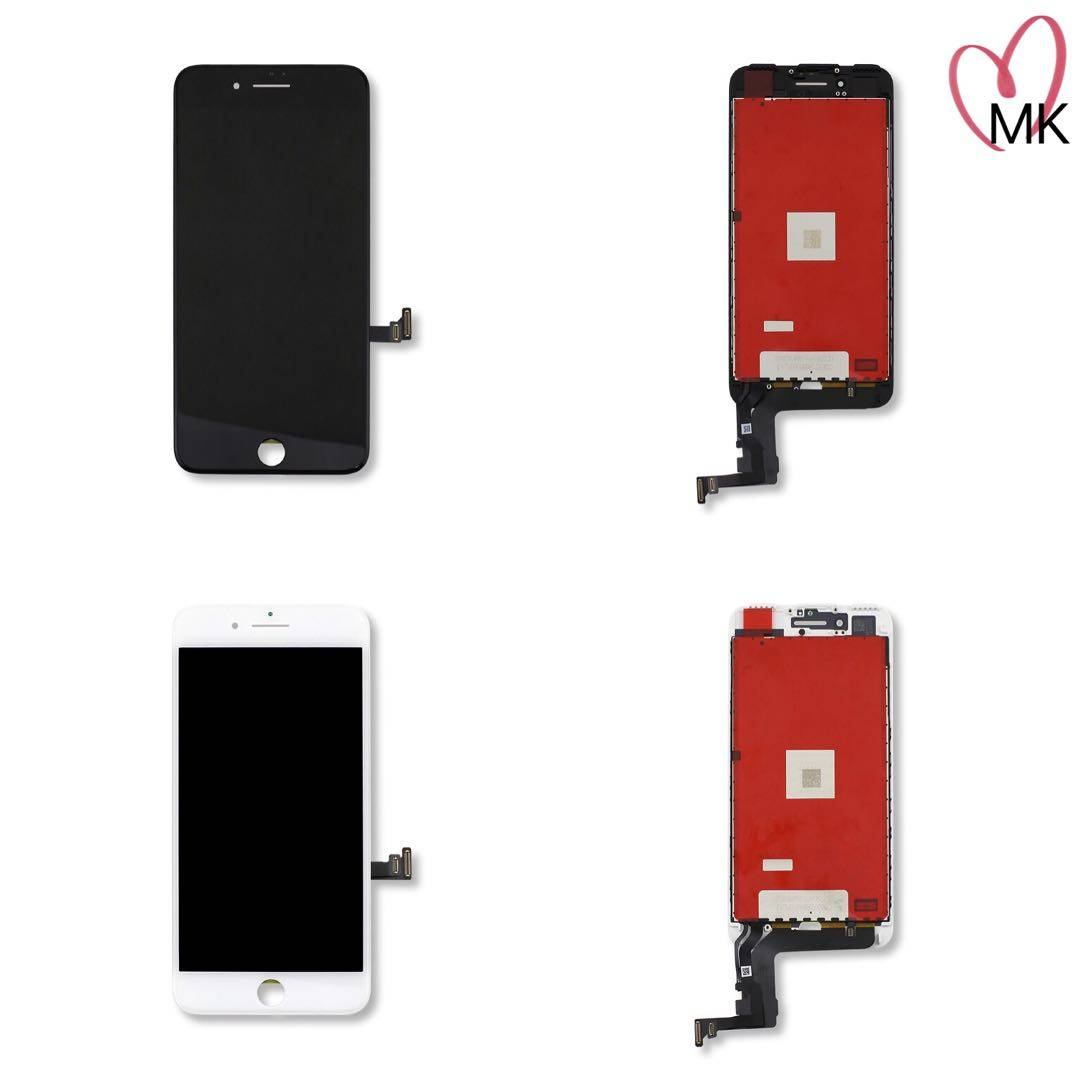phone: (157, 591, 384, 1026), (164, 57, 379, 486), (712, 588, 911, 966), (719, 57, 904, 425)
